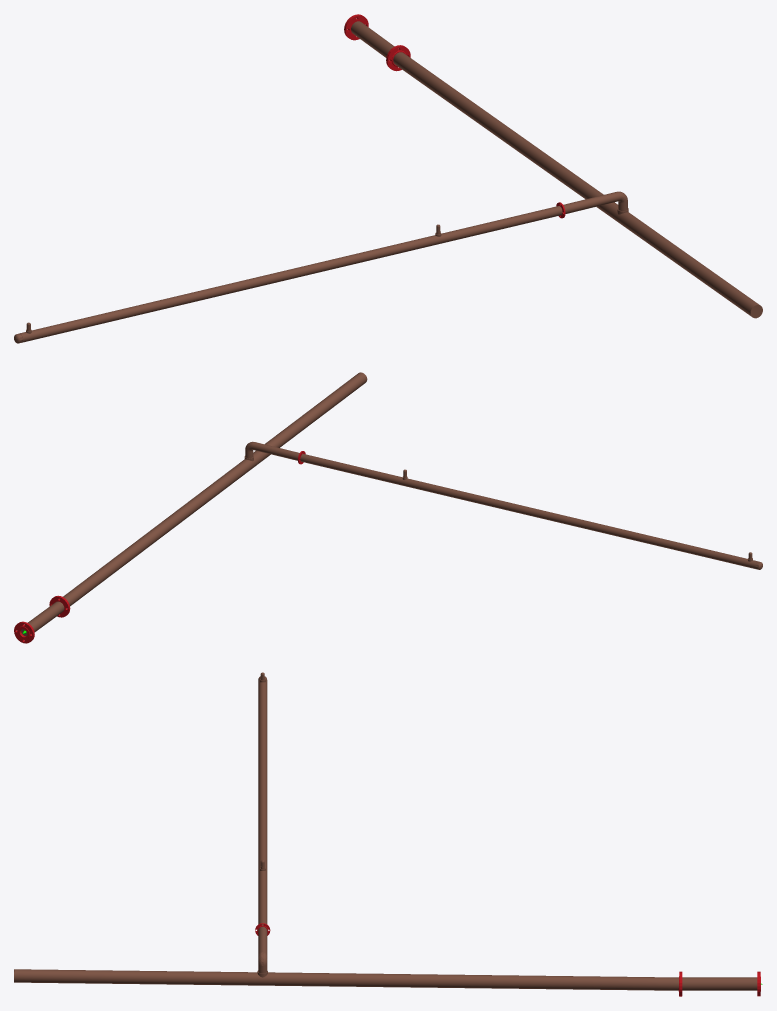
File: Phase39b.fbx
3 views of the same model, one above another, from view 1: azimuth 30°, elevation 25°; view 2: azimuth 150°, elevation 25°; view 3: azimuth 270°, elevation 25° (orthographic). The views are drawn at different scales.
Parts seen in each view (by area): view 1: Типы трубопроводов:CPS_Полиэтилен сшитый:1285067, Типы трубопроводов:CPS_Полиэтилен сшитый:1285170, Типы трубопроводов:CPS_Полиэтилен сшитый:1285074, Типы трубопроводов:CPS_Полиэтилен сшитый:1288182; view 2: Типы трубопроводов:CPS_Полиэтилен сшитый:1285067, Типы трубопроводов:CPS_Полиэтилен сшитый:1285170, Типы трубопроводов:CPS_Полиэтилен сшитый:1285074; view 3: Типы трубопроводов:CPS_Полиэтилен сшитый:1285067, Типы трубопроводов:CPS_Полиэтилен сшитый:1285170, Типы трубопроводов:CPS_Полиэтилен сшитый:1285074.
Part boxes in pixels (x1,y1,x2,y2): Типы трубопроводов:CPS_Полиэтилен сшитый:1285067: (393,52,762,318); Типы трубопроводов:CPS_Полиэтилен сшитый:1285170: (20,206,562,342); Типы трубопроводов:CPS_Полиэтилен сшитый:1285074: (351,21,394,57); Типы трубопроводов:CPS_Полиэтилен сшитый:1288182: (563,192,619,213); Типы трубопроводов:CPS_Полиэтилен сшитый:1285067: (63,372,367,606); Типы трубопроводов:CPS_Полиэтилен сшитый:1285170: (300,454,757,569); Типы трубопроводов:CPS_Полиэтилен сшитый:1285074: (21,601,64,635); Типы трубопроводов:CPS_Полиэтилен сшитый:1285067: (14,969,678,990); Типы трубопроводов:CPS_Полиэтилен сшитый:1285170: (258,678,267,925); Типы трубопроводов:CPS_Полиэтилен сшитый:1285074: (682,977,757,990).
Size of the model in its own units: 4427 by 4980 by 388.
